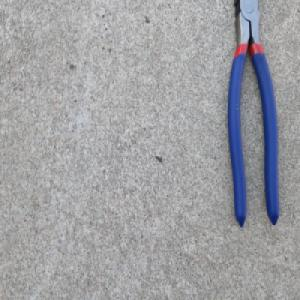Pliers: (226, 0, 281, 229)
